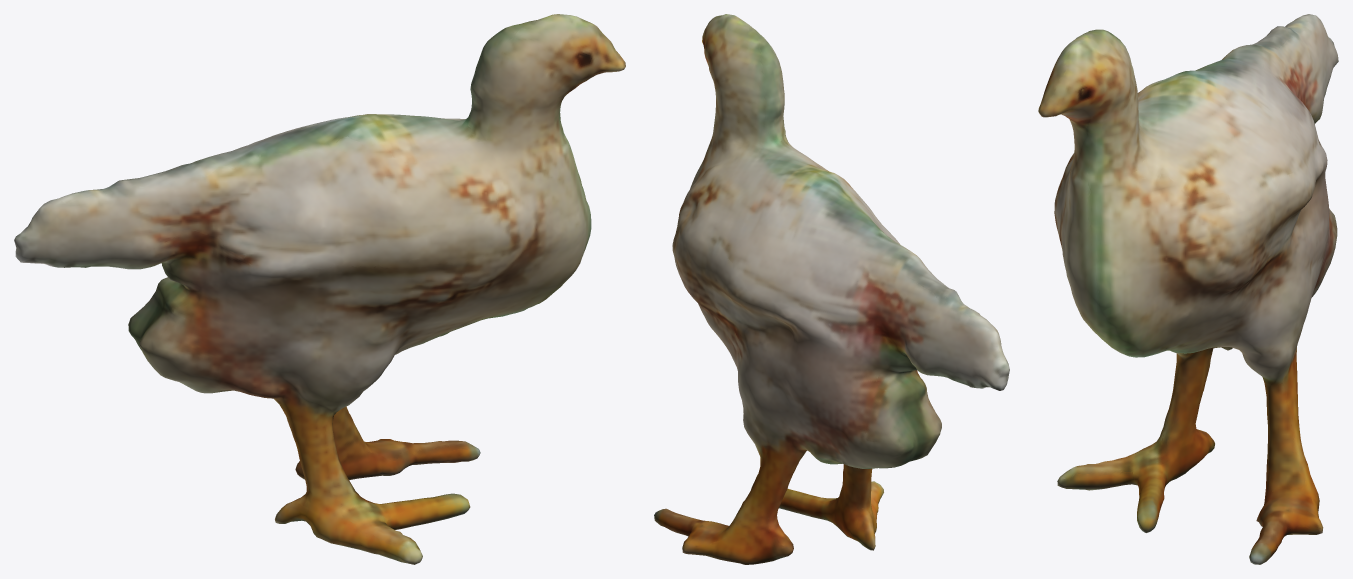
Rendered from joven.glb.
3 renders of one model, left to right at view 1: azimuth 30°, elevation 25°; view 2: azimuth 150°, elevation 25°; view 3: azimuth 270°, elevation 25°, orthographic. The views are drawn at different scales.
Visible parts, largest first — view 1: mesh; view 2: mesh; view 3: mesh.
Part boxes in pixels (x1=…): mesh: x1=14, y1=14, x2=625, y2=564; mesh: x1=654, y1=14, x2=1009, y2=564; mesh: x1=1038, y1=14, x2=1338, y2=564.
Size of the model in its own units: 1.43 by 1.46 by 0.7483.
Materials: 1 (1 with a texture image).
